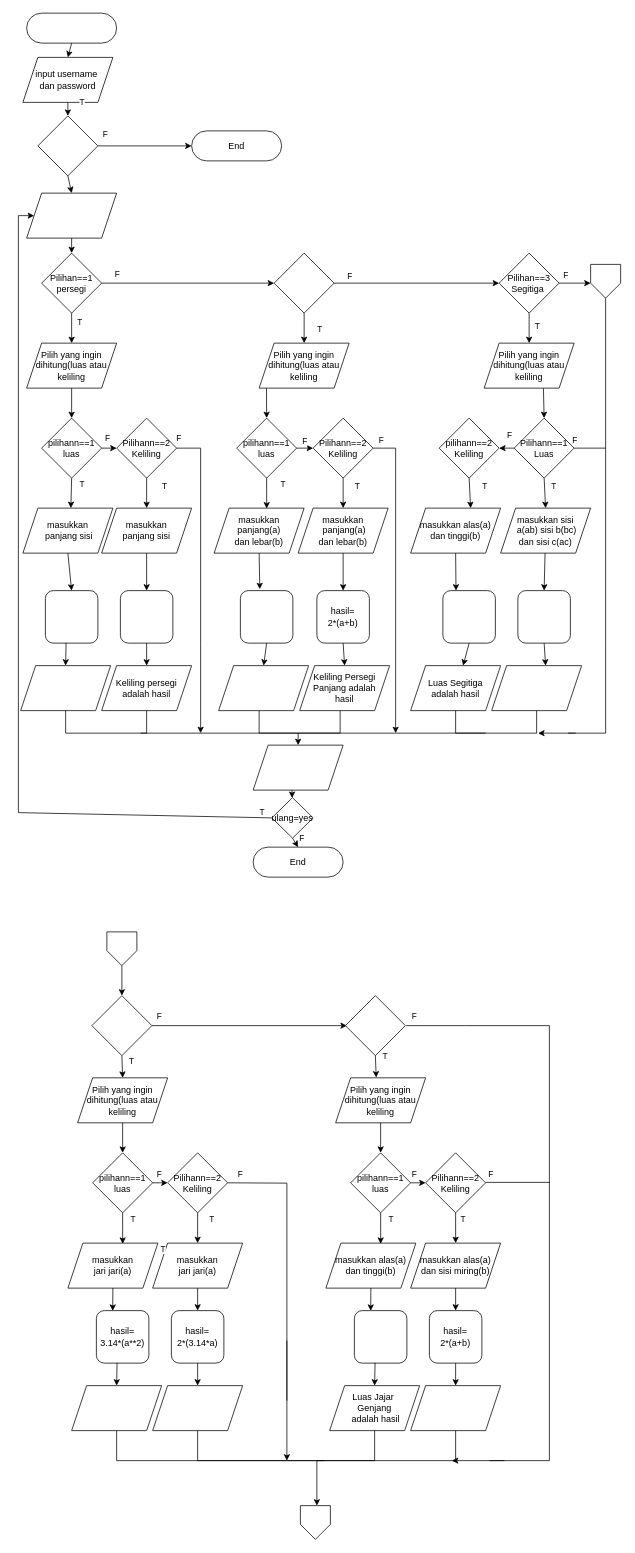
This 635x1553 diagram has some shape labels left out. The box of each missing label's shape, as (x1, y1, x2, y2) in pixels:
Apakah ingin mengulang?: (252, 744, 343, 790)
hasil= (a*b)/2: (442, 590, 495, 643)
hasil= a*b: (354, 1310, 407, 1363)
hasil= a+b+c: (517, 590, 570, 643)
hasil=a*4: (120, 590, 173, 643)
hasil=a*a: (45, 590, 98, 643)
hasil=a*b: (240, 590, 293, 643)
Keliling Jajar Genjang adalah hasil: (410, 1385, 501, 1431)
Keliling Lingkaran adalah hasil: (152, 1385, 243, 1431)
Keliling Segitiga Adalah hasil: (491, 665, 582, 711)
Luas lingkaran adalah hasil: (71, 1385, 162, 1431)
Luas persegi adalah hasil: (20, 665, 111, 711)
Luas persegi panjang adalah hasil: (218, 665, 309, 711)
Pilih Bangun datar yang ingin di hitung: (26, 192, 117, 238)
Pilihan==2 Persegi Panjang: (273, 252, 334, 313)
Pilihan==4 Lingkaran: (91, 995, 152, 1056)
Pilihan==5 Jajar Genjang: (345, 995, 405, 1056)
Start: (26, 12, 117, 43)
username dan password benar: (37, 115, 98, 176)
